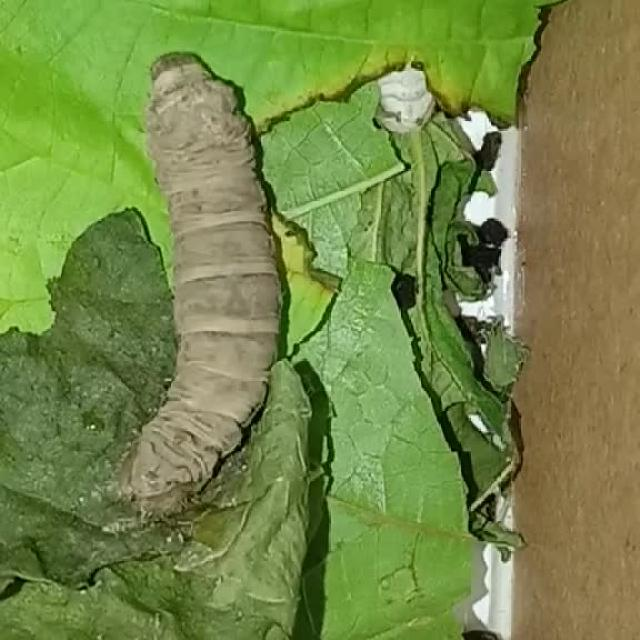Grasserie: (83, 47, 312, 534)
